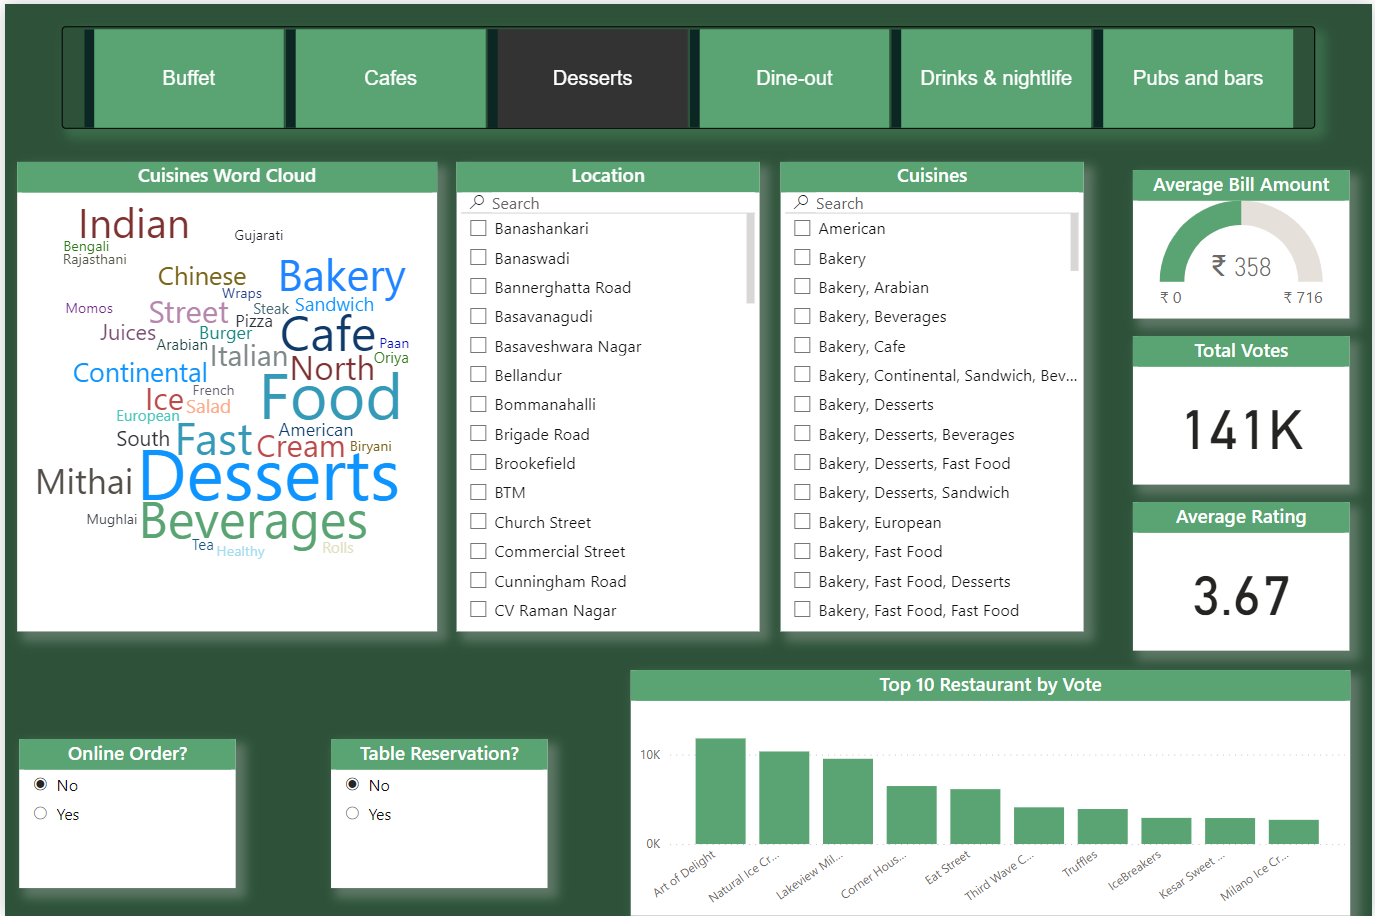

This screenshot's page, from the dashboard's own definition file:
{"tool":"powerbi","page":{"name":"Report","canvas":[1350,900],"ordinal":0},"visuals":[{"type":"gauge","title":"Average Bill Amount","fields":{"Y":["Avg(zomato.approx_cost(for two people))"]},"box":[1113.3,163.7,213.9,146.7],"z":2000},{"type":"card","title":"Total Votes","fields":{"Values":["Sum(zomato.votes)"]},"box":[1113.9,328.7,213.9,146.7],"z":3000},{"type":"card","title":"Average Rating","fields":{"Values":["Avg(zomato.rate)"]},"box":[1114.6,491.2,213.9,146.7],"z":4000},{"type":"columnChart","title":"Top 10 Restaurant by Vote","fields":{"Category":["zomato.name"],"Y":["Sum(zomato.votes)"]},"box":[617.2,657.3,710.8,242.7],"z":5000},{"type":"slicer","title":"Table Reservation?","fields":{"Values":["zomato.book_table"]},"box":[321,726.1,214,147],"z":6000},{"type":"slicer","title":"Online Order?","fields":{"Values":["zomato.online_order"]},"box":[13.4,726.1,214,147.1],"z":7000},{"type":"slicer","title":"Cuisines","fields":{"Values":["zomato.cuisines"]},"box":[765.3,156.1,299.3,463.9],"z":8000},{"type":"slicer","title":"Location","fields":{"Values":["zomato.location"]},"box":[446.8,156.1,299.3,463.9],"z":9000},{"type":"WordCloud1447959067750","title":"Cuisines Word Cloud","fields":{"Category":["zomato.cuisines"]},"box":[12.8,156.1,414.7,463.9],"z":10000},{"type":"slicer","title":"Restaurant Type","fields":{"Values":["zomato.listed_in(type)"]},"box":[55.9,21,1238.2,101.3],"z":10500}]}

Visuals, with their boxes in screenshot pixels (x1, y1, x2, y2), scaled from the page's 1350x900 canvas onto the 1375x916 screenshot:
"Average Bill Amount" gauge: [left=1134, top=167, right=1352, bottom=316]
"Total Votes" card: [left=1135, top=335, right=1352, bottom=484]
"Average Rating" card: [left=1135, top=500, right=1353, bottom=649]
"Top 10 Restaurant by Vote" columnChart: [left=629, top=669, right=1353, bottom=915]
"Table Reservation?" slicer: [left=327, top=739, right=545, bottom=889]
"Online Order?" slicer: [left=14, top=739, right=232, bottom=889]
"Cuisines" slicer: [left=779, top=159, right=1084, bottom=631]
"Location" slicer: [left=455, top=159, right=760, bottom=631]
"Cuisines Word Cloud" WordCloud1447959067750: [left=13, top=159, right=435, bottom=631]
"Restaurant Type" slicer: [left=57, top=21, right=1318, bottom=124]
